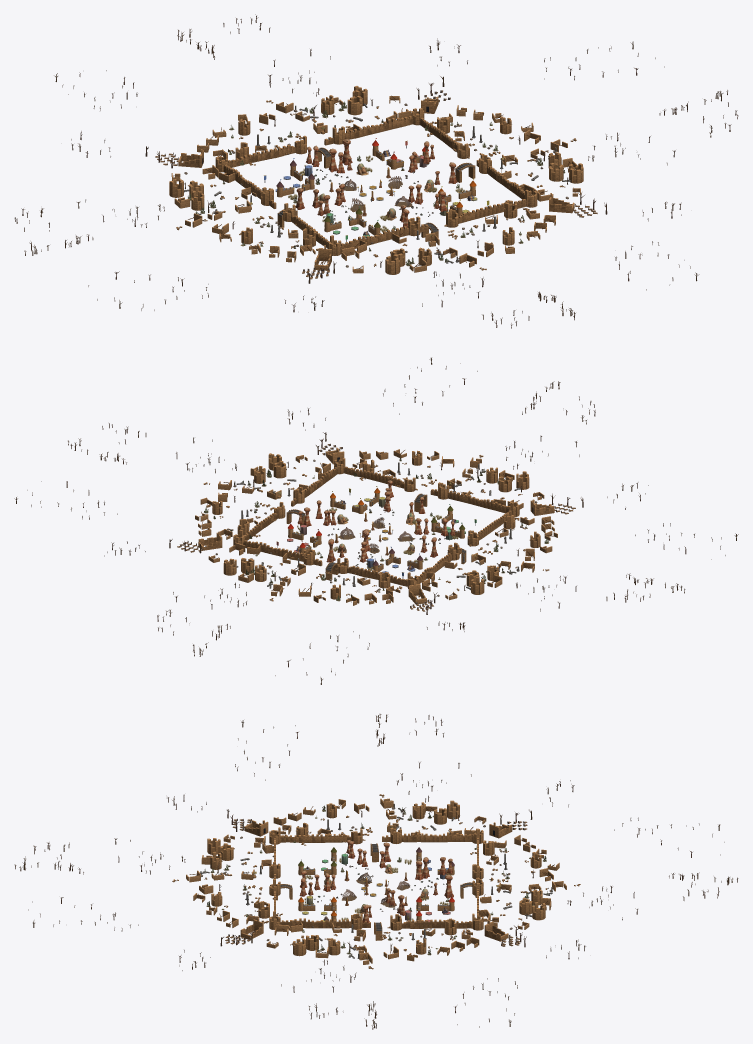
File: spires.glb
The picture shows the model from 3 angles, top to bottom: view 1: azimuth 30°, elevation 25°; view 2: azimuth 150°, elevation 25°; view 3: azimuth 270°, elevation 25°; orthographic projection. The views are drawn at different scales.
Visible parts, largest first — view 1: Props; view 2: Props; view 3: Props.
Boxes of the visible parts, x1=… form: Props: x1=14, y1=14, x2=738, y2=328; Props: x1=14, y1=357, x2=738, y2=684; Props: x1=14, y1=714, x2=738, y2=1029.
Size of the model in its own units: 332 by 20.45 by 332.
22 materials, 22 textured.
